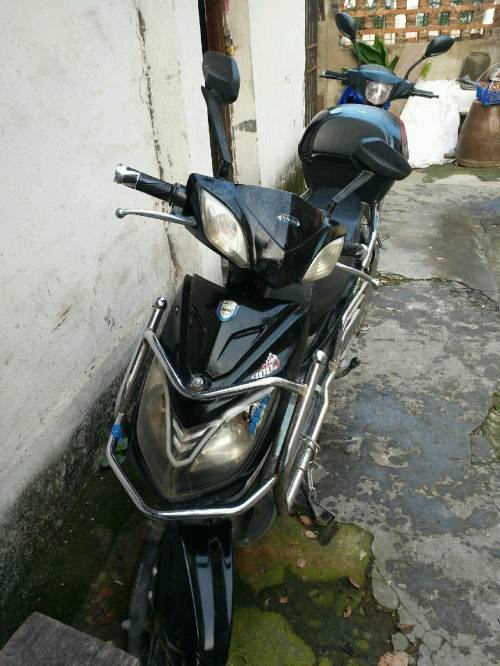电动车: (85, 101, 413, 664)
